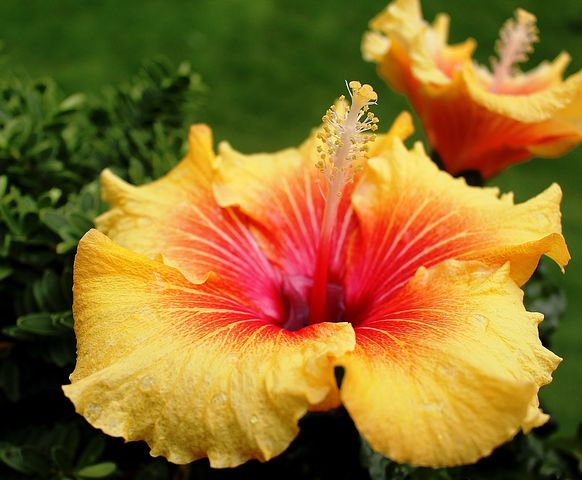Hibiscus: (33, 78, 563, 465), (361, 15, 574, 182)
